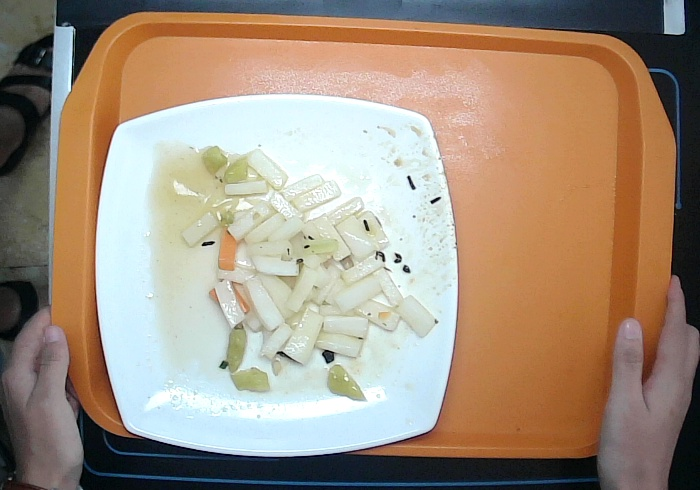ZNLD-Bai_Fang_Pan: (86, 88, 469, 463)
